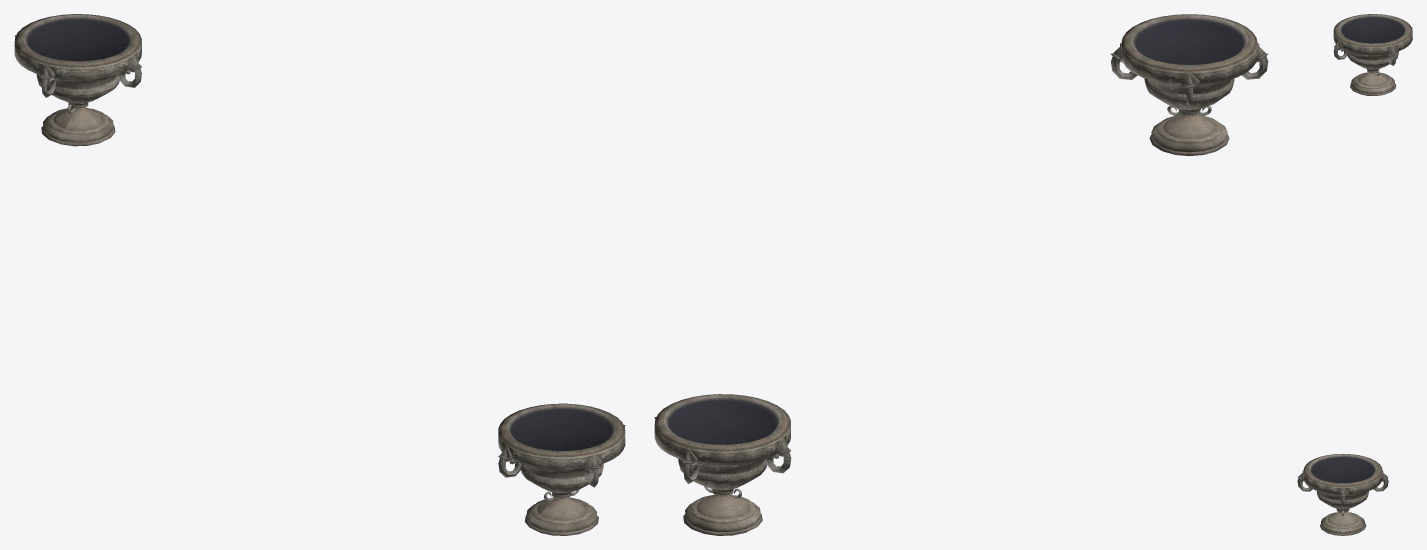
File: stone.fbx
3 views of the same model, side by side, from view 1: azimuth 30°, elevation 25°; view 2: azimuth 150°, elevation 25°; view 3: azimuth 270°, elevation 25° (orthographic). The views are drawn at different scales.
Parts seen in each view (by area): view 1: o210200_0, o210200_0_1; view 2: o210200_0_1, o210200_0; view 3: o210200_0, o210200_0_1.
Boxes of the visible parts, box(x1,y1,x2,y2) form: o210200_0: box(498, 403, 625, 535); o210200_0_1: box(14, 14, 141, 146); o210200_0_1: box(1111, 14, 1268, 156); o210200_0: box(654, 394, 791, 535); o210200_0: box(1297, 454, 1388, 535); o210200_0_1: box(1333, 14, 1412, 95).
Bounding box in the file's own units: 46527 × 44420 × 12953.
Materials: 2 (2 with a texture image).
